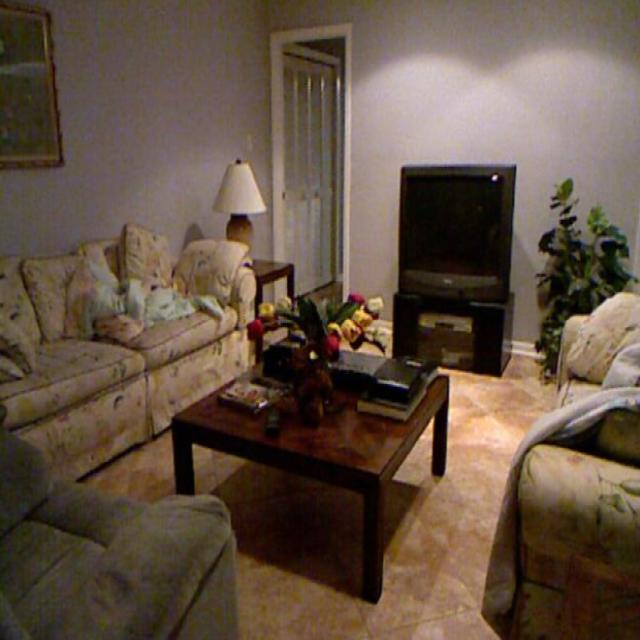obstacle: (168, 301, 456, 604), (478, 285, 640, 636), (384, 150, 544, 382)
